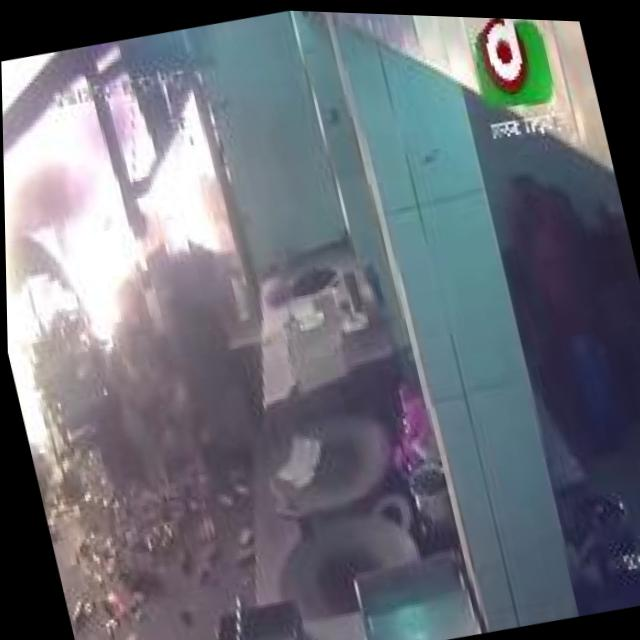fire: (1, 49, 161, 469), (77, 92, 246, 334)
